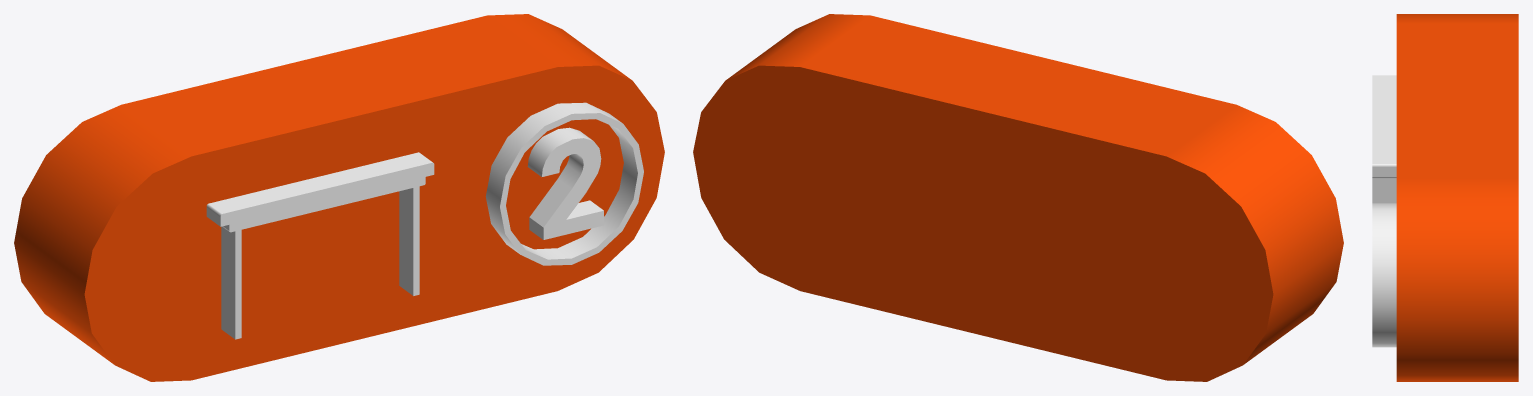
The model's file is Table_2.fbx.
3 renders of one model, left to right at view 1: azimuth 30°, elevation 25°; view 2: azimuth 150°, elevation 25°; view 3: azimuth 270°, elevation 25°, orthographic. The views are drawn at different scales.
Visible parts, largest first — view 1: Orange, Object_3, Object_1, Object_7, Object_8, Object_5, Object_10, Object_6; view 2: Orange; view 3: Orange, Object_3, Object_7, Object_10, Object_8.
Part boxes in pixels (<box>): Orange: <box>14,14,664,381</box>; Object_3: <box>485,102,643,265</box>; Object_1: <box>527,127,603,239</box>; Object_7: <box>206,152,433,216</box>; Object_8: <box>206,152,434,226</box>; Object_5: <box>221,227,241,339</box>; Object_10: <box>399,188,419,295</box>; Object_6: <box>222,177,425,232</box>; Orange: <box>693,14,1343,381</box>; Orange: <box>1396,14,1518,381</box>; Object_3: <box>1372,203,1396,347</box>; Object_7: <box>1372,75,1396,163</box>; Object_10: <box>1372,178,1396,203</box>; Object_8: <box>1372,164,1396,175</box>.
Bounding box in the file's own units: 4.75 × 1.2 × 1.75.
